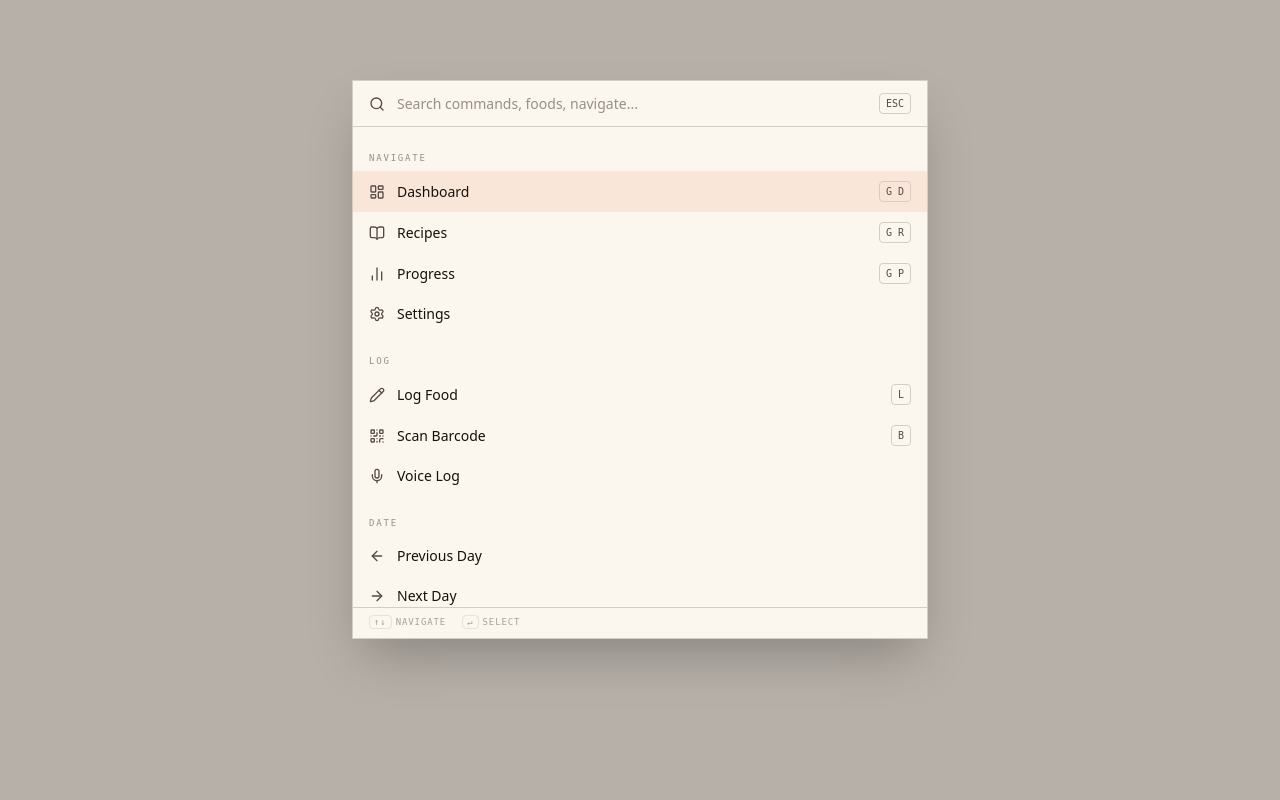
Test: CommandPalette › search filtering › filters commands by label
The width and height of the screenshot is (1280, 800).
Type "recipe" into the search field.
click(632, 104); type("recipe")  # box x1=397 y1=94 x2=867 y2=114
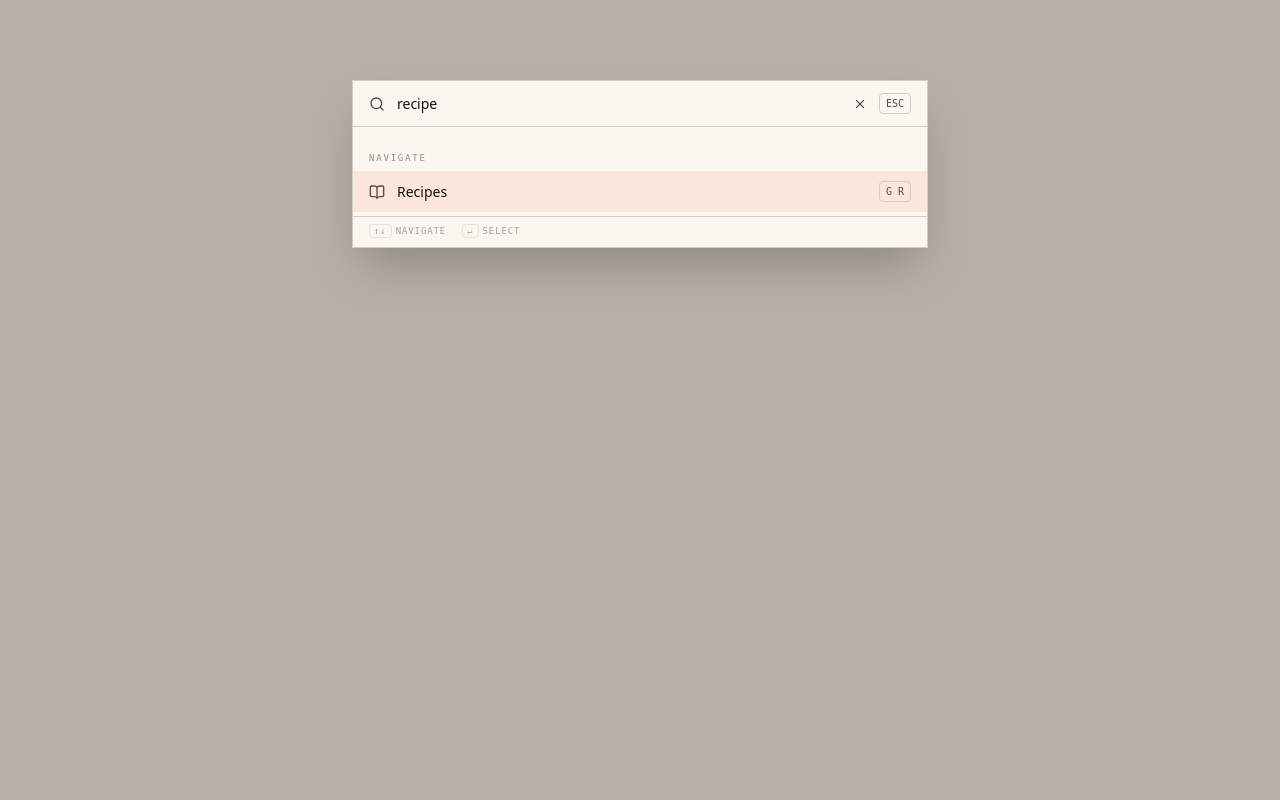
Expected: the text "Recipes" is shown, x1=397 y1=182 x2=447 y2=200
Expected: the option "Dashboard" is gone
